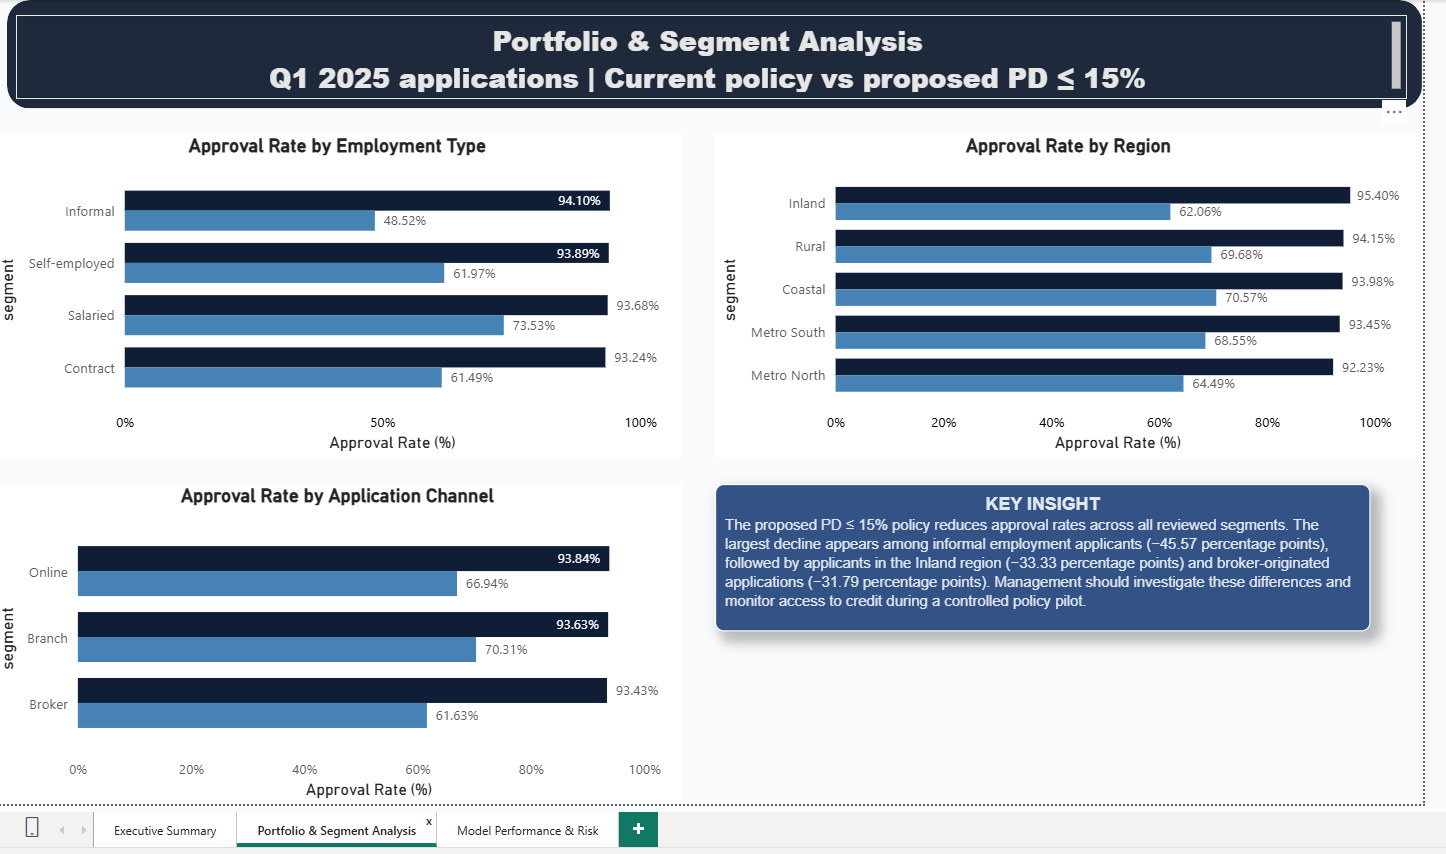

The dashboard page shown, as its layout file describes it:
{"tool":"powerbi","page":{"name":"Portfolio & Segment Analysis","canvas":[1280,720],"ordinal":1},"visuals":[{"type":"clusteredBarChart","title":"Approval Rate by Employment Type","fields":{"Category":["segment_policy_impact.segment"],"Y":["Avg(segment_policy_impact.Current Policy)","Avg(segment_policy_impact.Proposed (PD ≤ 15%))"]},"box":[0,120,617,289.3],"z":0},{"type":"clusteredBarChart","title":"Approval Rate by Application Channel","fields":{"Category":["segment_policy_impact.segment"],"Y":["Avg(segment_policy_impact.current_approval_rate_pct)","Avg(segment_policy_impact.pd15_approval_rate_pct)"]},"box":[0,433.4,617,286.6],"z":1000},{"type":"clusteredBarChart","title":"Approval Rate by Region","fields":{"Category":["segment_policy_impact.segment"],"Y":["Avg(segment_policy_impact.current_approval_rate_pct)","Avg(segment_policy_impact.pd15_approval_rate_pct)"]},"box":[646.6,120,633.1,289.3],"z":2000},{"type":"shape","box":[12.6,0,1267.4,97.3],"z":3000},{"type":"textbox","box":[20.4,13.6,1246,74.9],"z":4000},{"type":"textbox","box":[646.6,433.4,586.6,131.6],"z":5000}]}

Visuals, with their boxes on the page's 1280x720 design canvas (x1, y1, x2, y2). These are canvas units, not pixel positions in the 1446x854 screenshot, which may show the page scaled, cropped or inside an application window:
"Approval Rate by Employment Type" clusteredBarChart: left=0, top=120, right=617, bottom=409
"Approval Rate by Application Channel" clusteredBarChart: left=0, top=433, right=617, bottom=720
"Approval Rate by Region" clusteredBarChart: left=647, top=120, right=1280, bottom=409
shape: left=13, top=0, right=1280, bottom=97
textbox: left=20, top=14, right=1266, bottom=88
textbox: left=647, top=433, right=1233, bottom=565
